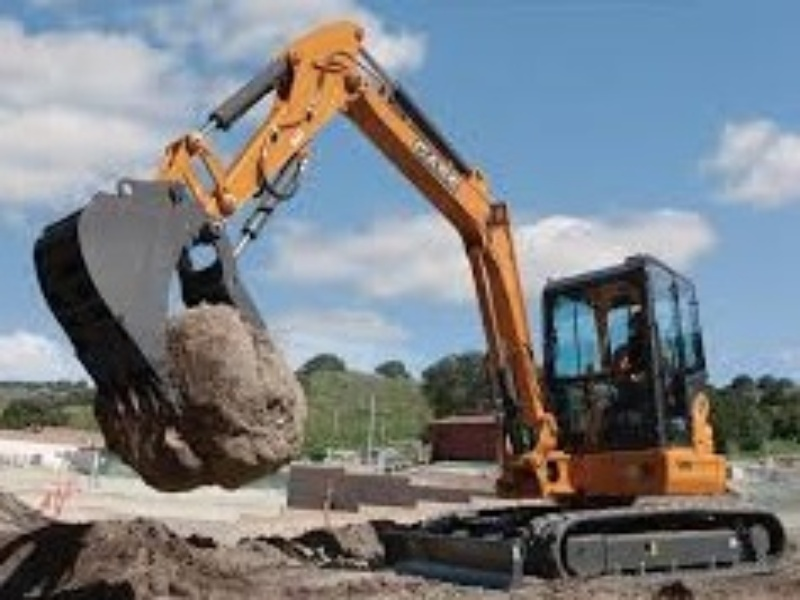wajueji: (431, 207, 796, 588)
